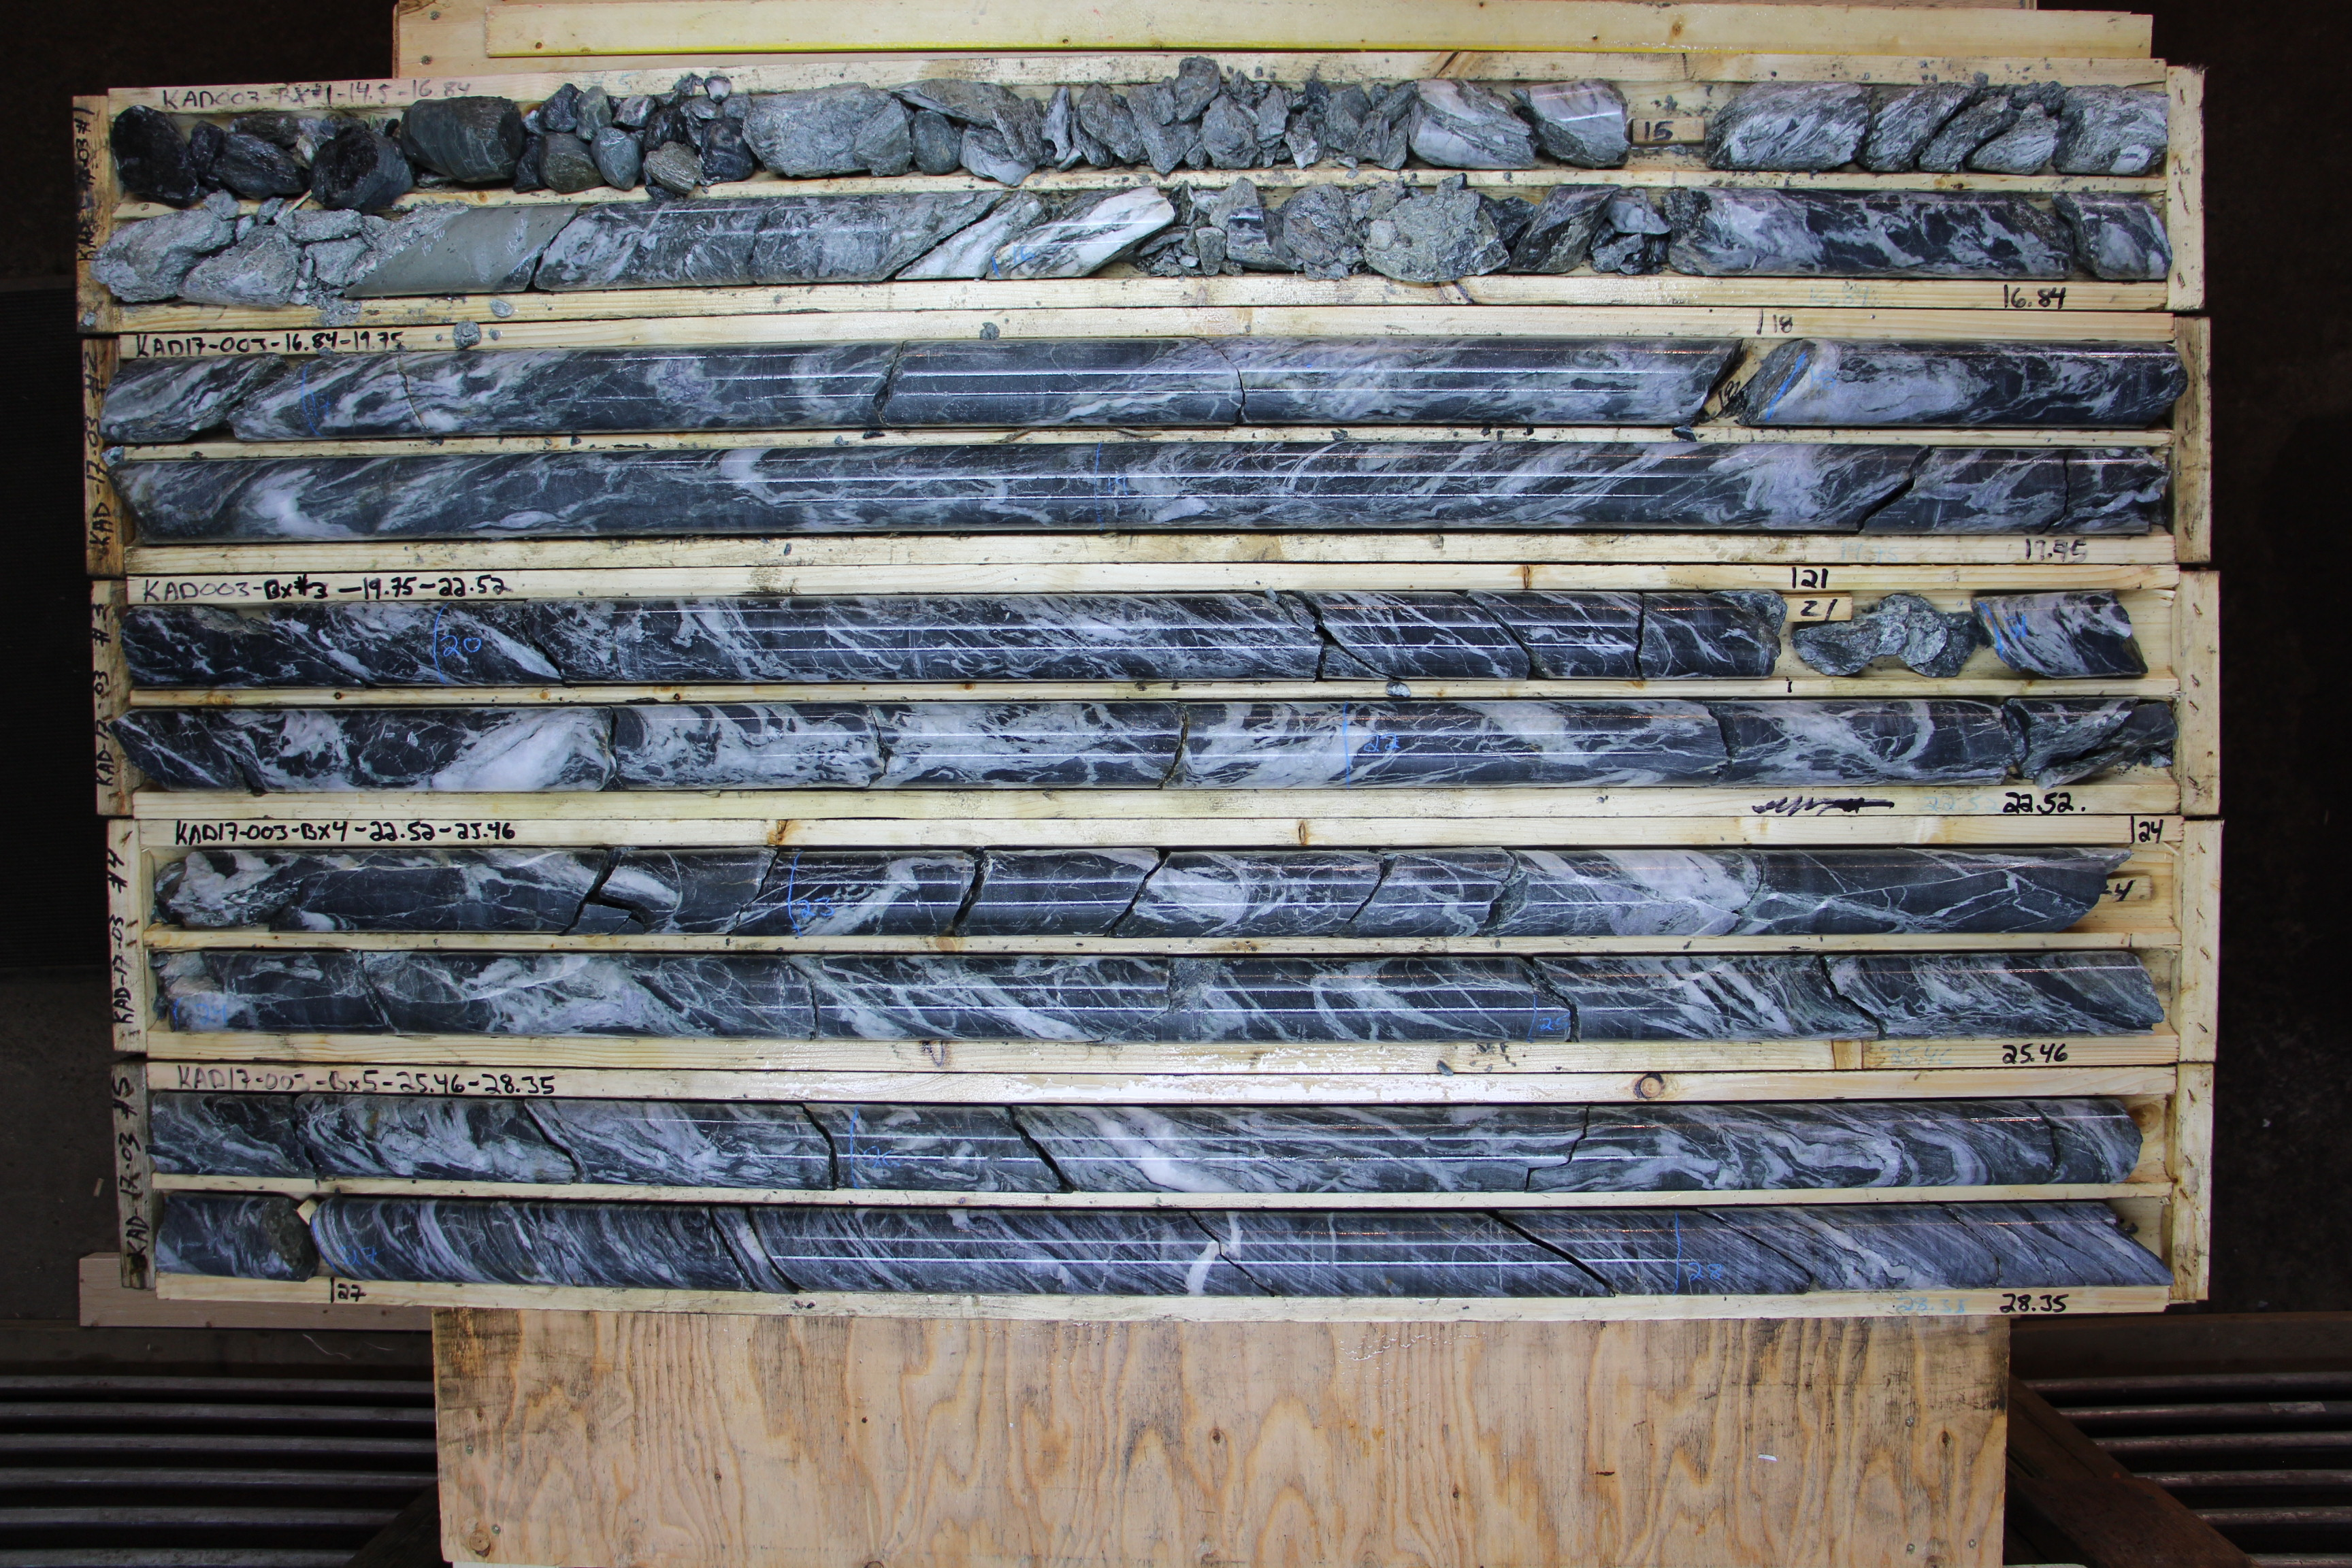rock-KAD17_003-16.84-17: (122, 356, 308, 440)
rock-KAD17_003-17-18: (308, 344, 1734, 433)
rock-KAD17_003-18-18x: (1780, 341, 2171, 428)
rock-KAD17_003-18x-19: (127, 451, 1098, 538)
rock-KAD17_003-19-19x: (1104, 448, 2167, 529)
rock-KAD17_003-19x-20: (129, 606, 439, 686)
rock-KAD17_003-20-21: (440, 598, 1774, 681)
rock-KAD17_003-21-21x: (1982, 597, 2143, 679)
rock-KAD17_003-21x-22: (127, 710, 1344, 783)
rock-KAD17_003-22-22x: (1345, 702, 2174, 783)
rock-KAD17_003-22x-23: (167, 853, 788, 928)
rock-KAD17_003-23-24: (789, 847, 2134, 930)
rock-KAD17_003-24-25: (157, 950, 1531, 1041)
rock-KAD17_003-25-25x: (1529, 953, 2162, 1040)
rock-KAD17_003-25x-26: (152, 1096, 850, 1186)
rock-KAD17_003-26-26x: (853, 1105, 2142, 1182)
rock-KAD17_003-26x-27: (156, 1192, 304, 1277)
rock-KAD17_003-27-28: (332, 1203, 1678, 1292)
rock-KAD17_003-28-28.35: (1680, 1206, 2166, 1293)
